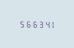five: (17, 19, 22, 27)
four: (42, 20, 47, 28)
one: (48, 20, 53, 28)
six: (23, 19, 28, 27), (30, 19, 35, 27)
three: (36, 19, 41, 28)
